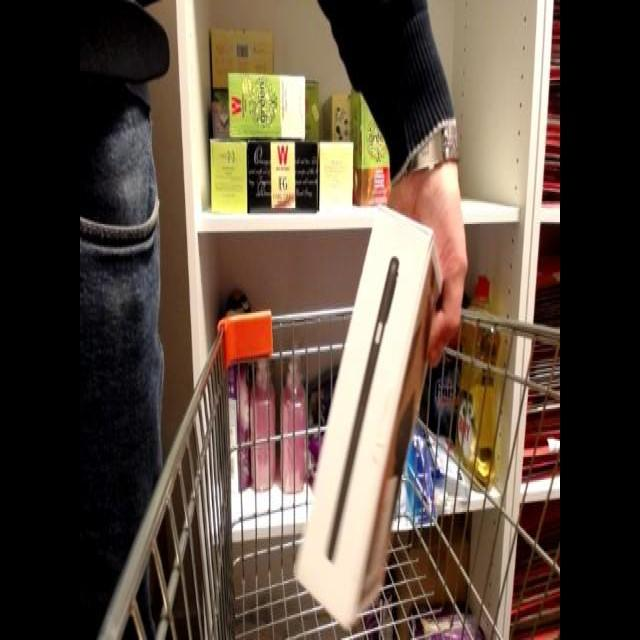Pixel 4: (282, 181, 468, 628)
